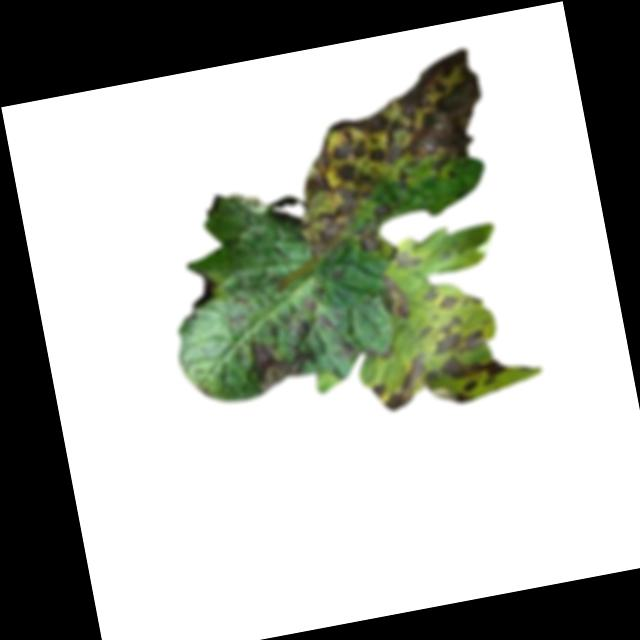Early_blight: (274, 46, 504, 250), (246, 319, 319, 396), (425, 346, 513, 408), (366, 351, 432, 414), (414, 308, 490, 362), (376, 270, 413, 325), (186, 266, 221, 310), (422, 283, 459, 314), (392, 248, 424, 273), (358, 234, 384, 257), (337, 337, 358, 360), (302, 294, 319, 315), (317, 315, 335, 330)
